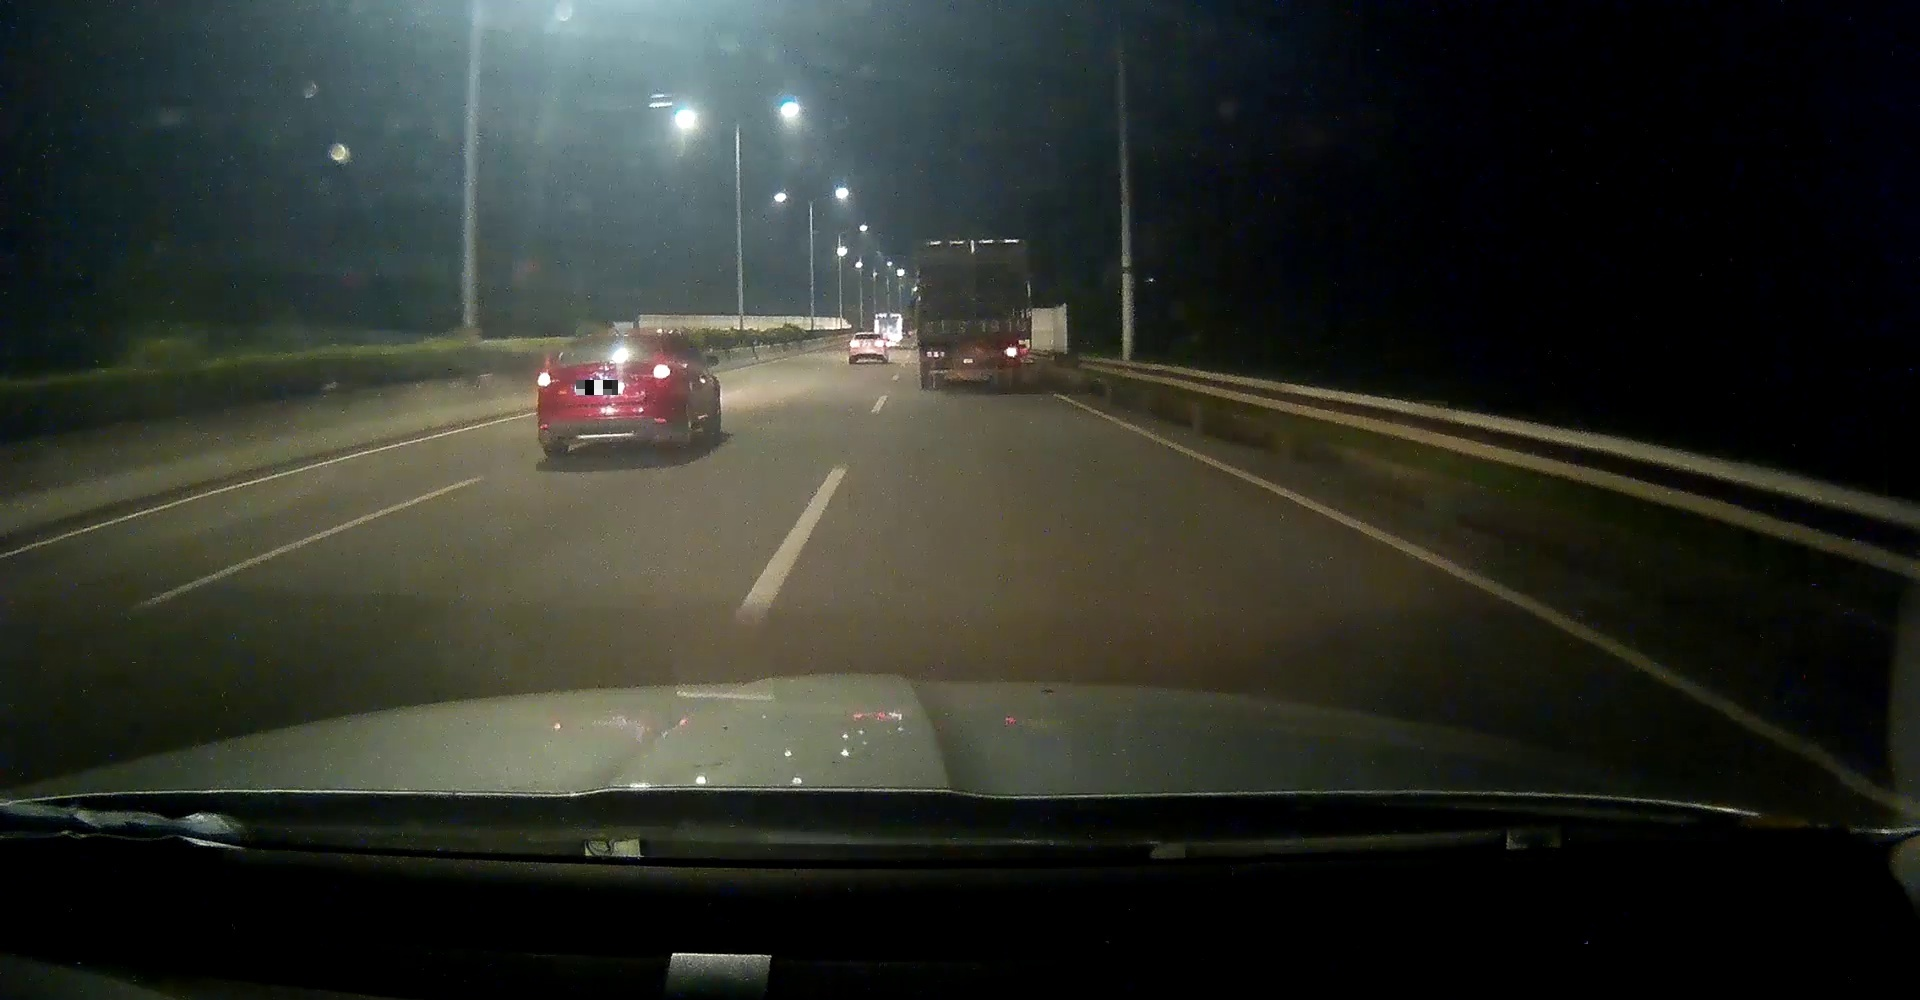L_light: (536, 371, 554, 387), (924, 349, 949, 359)
R_light: (651, 362, 670, 379), (1002, 346, 1023, 357)
T_light: (610, 336, 637, 340), (965, 244, 985, 247)
night-no: (535, 326, 676, 457)
night-right: (916, 239, 1035, 390)
plate_1: (577, 379, 618, 395)
